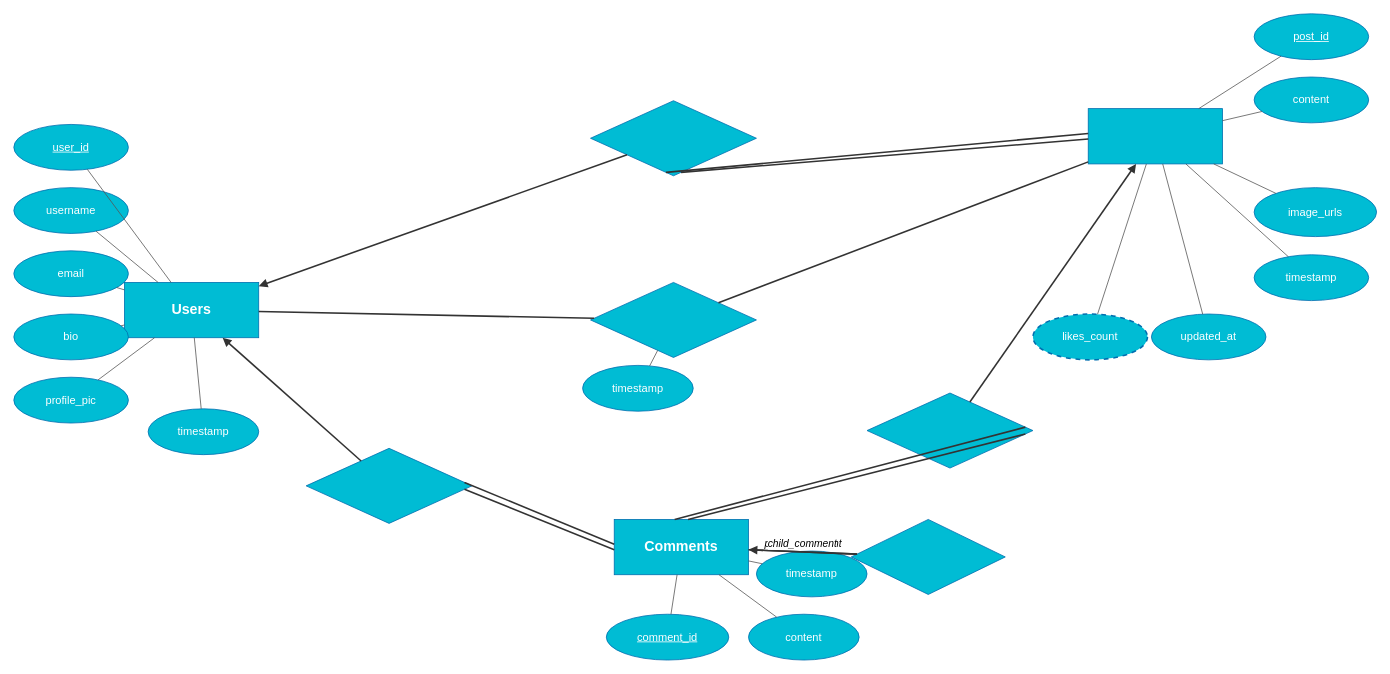
The diagram is 1390 pixels wide and 674 high, and some of its shapes have lost their labels. The centre of each missing label's shape, as x and y in pixels:
comments_made: the point at 388,485
comments_on: the point at 949,430
likes: the point at 673,319
Posts: the point at 1155,136
posts_written: the point at 673,138
replies_to (self-ref): the point at 927,556
